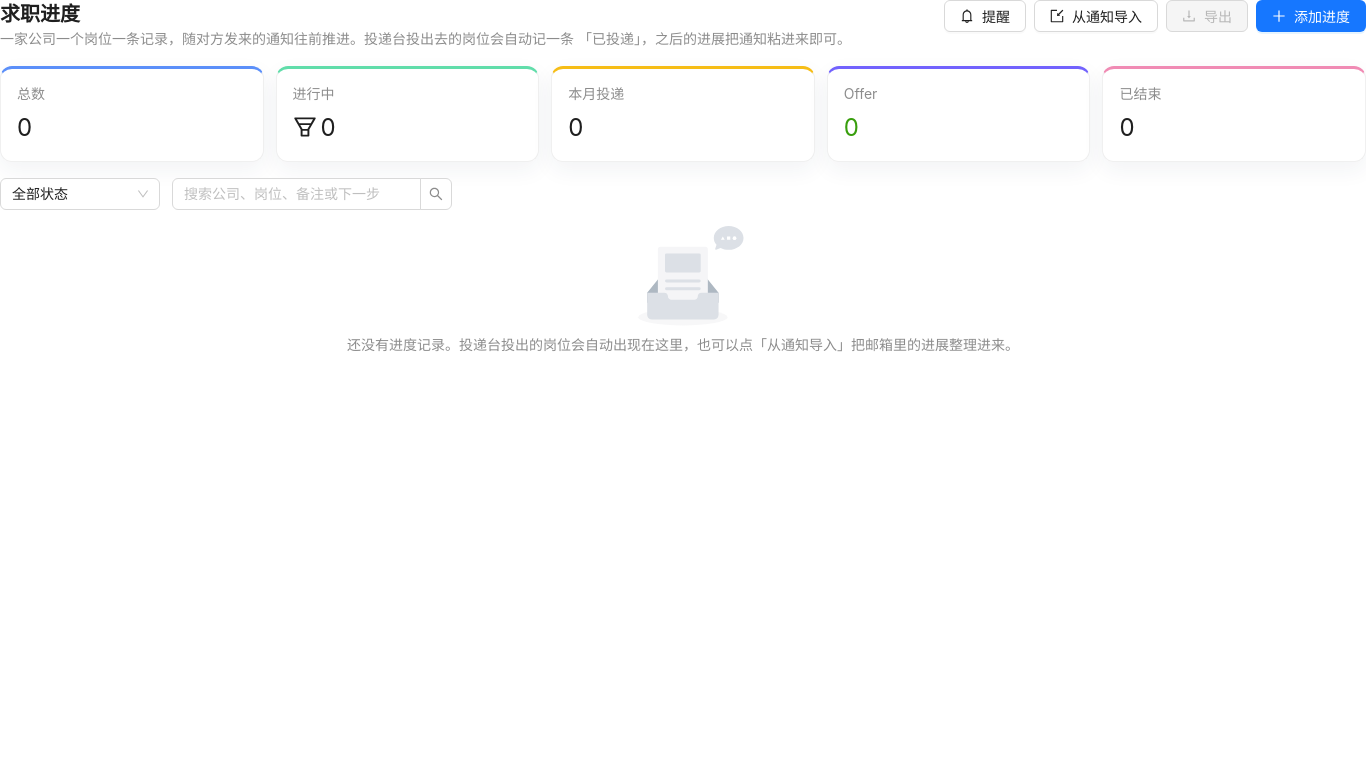
Test: TrackImportModal › shows what will happen and why before writing anything
Expected: the text "还没有进度记录。投递台投出的岗位会自动出现在这里，也可以点「从通知导入」把邮箱里的进展整理进来。" is shown, x1=347 y1=336 x2=1019 y2=353
Click the button "从通知导入" at (1096, 16), box x1=1034 y1=0 x2=1158 y2=32
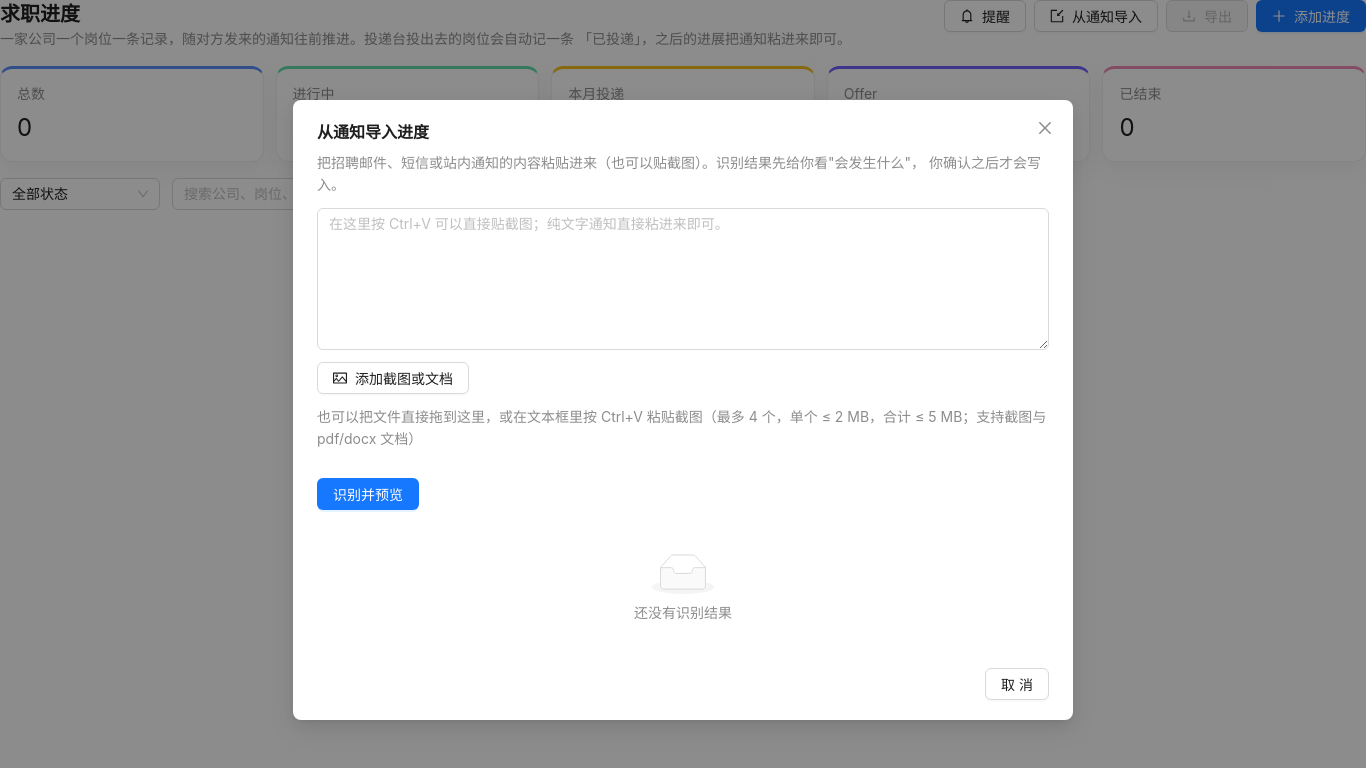
Type "【示例科技有限公司】您投递的「后端开发实习生」岗位已进入面试环节。" into the text box with placeholder "在这里按 Ctrl+V 可以直接贴截图；纯文字通知直接粘进来即可。" at (683, 279), box x1=317 y1=208 x2=1049 y2=350
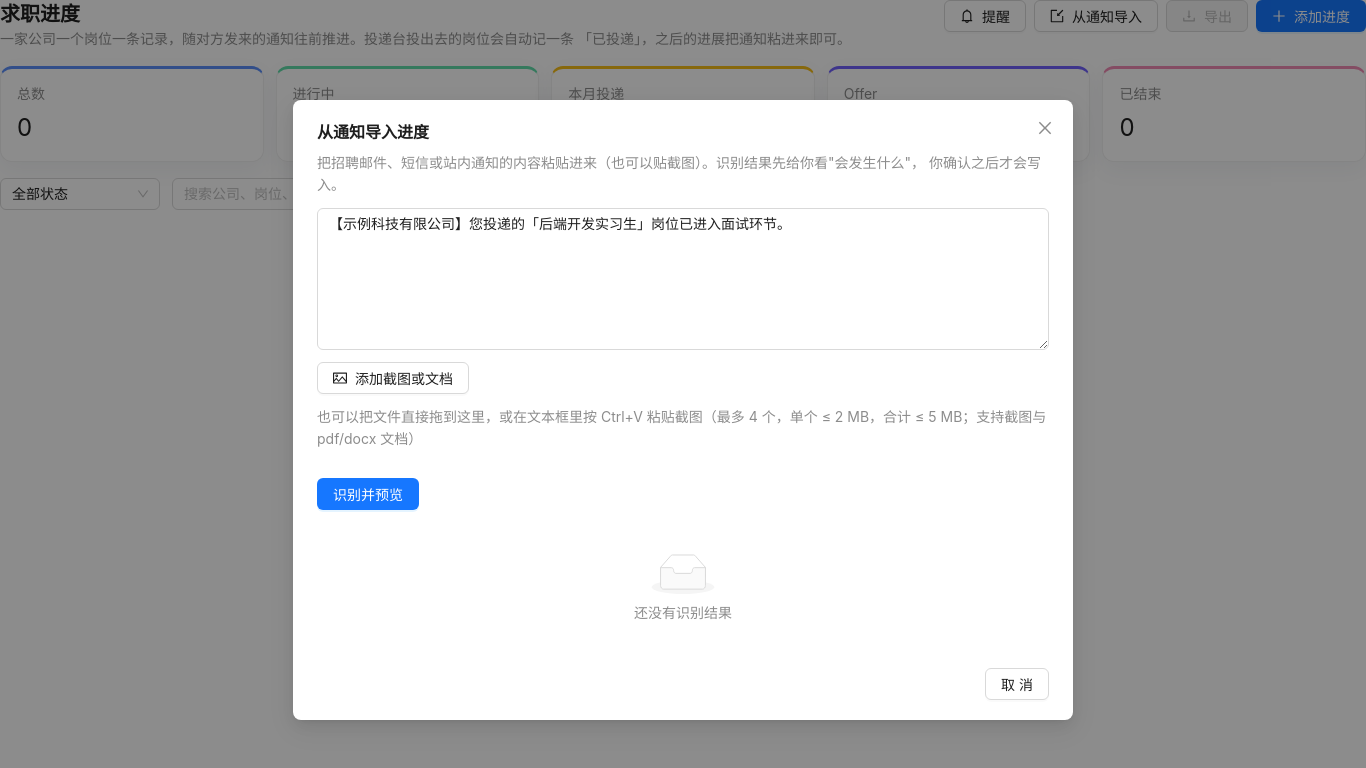
Click the button "识别并预览" at (368, 494), box x1=317 y1=478 x2=419 y2=510
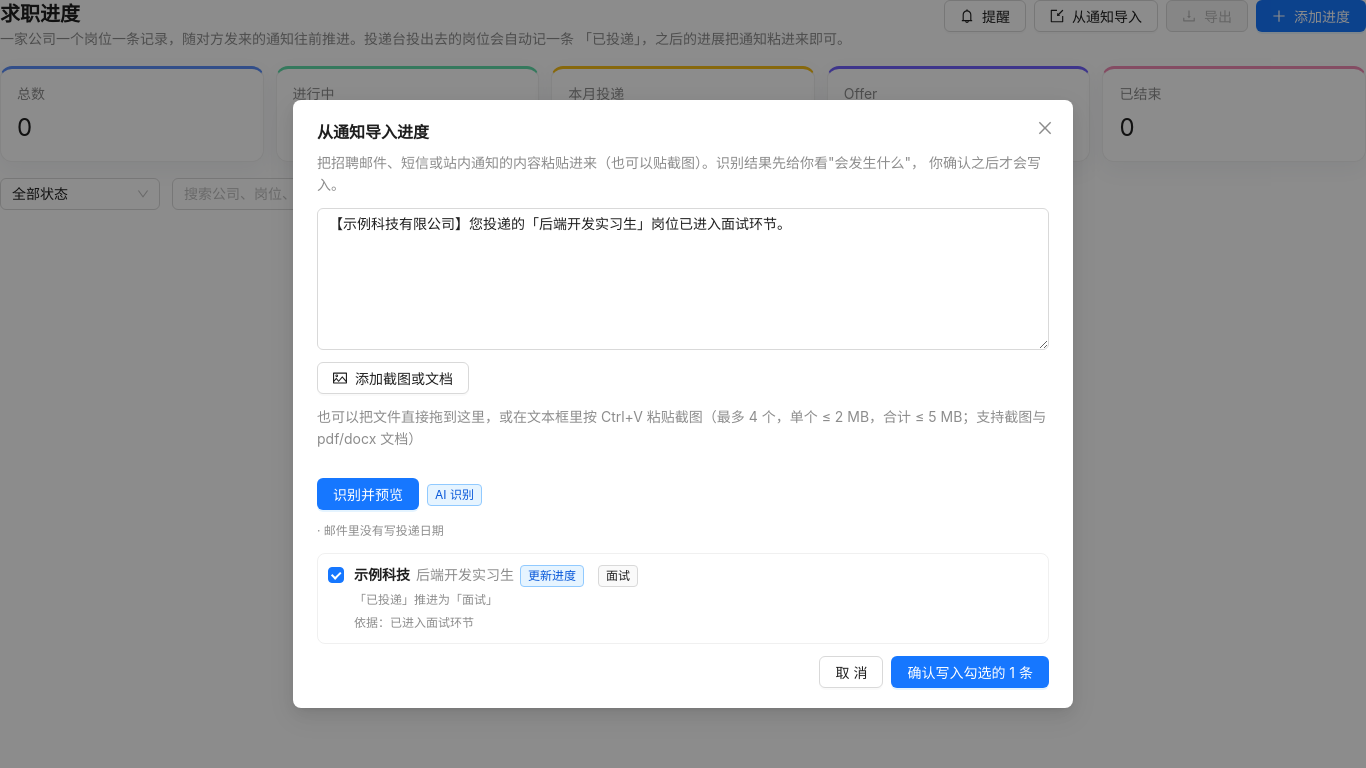
Now the text "更新进度" is shown, box x1=520 y1=565 x2=584 y2=587
Now the text "「已投递」推进为「面试」" is shown, box x1=354 y1=592 x2=498 y2=607
Now the text "依据：已进入面试环节" is shown, box x1=354 y1=615 x2=474 y2=630
